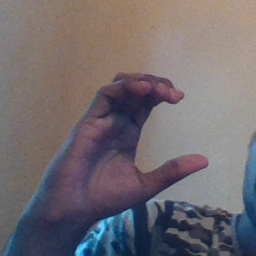C: (102, 67, 215, 193)
